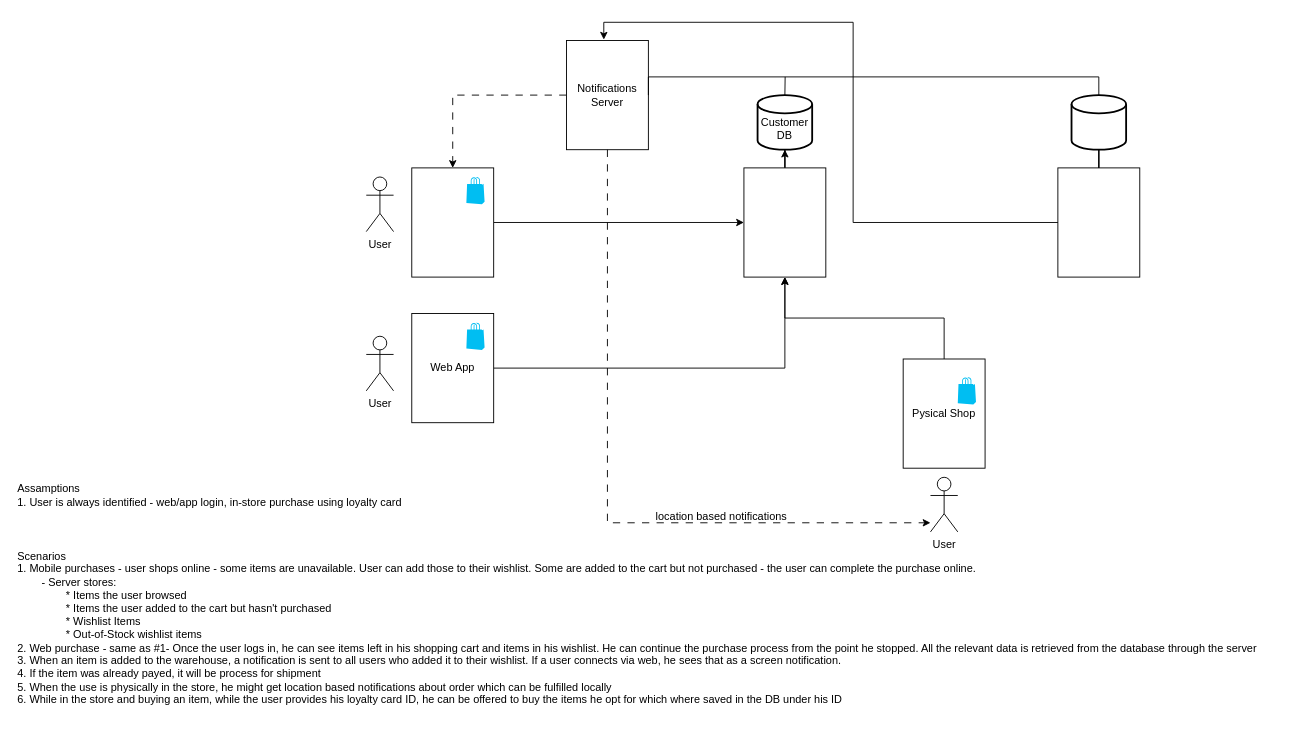
Image size: 1296x742. Some labels were removed from this diagram. Here are the shapes that lost their labels. From the top down, the box of each, then its label:
(1070, 94, 1127, 150): Items DB
(411, 167, 494, 277): Mobile App
(743, 167, 826, 277): Server
(1057, 167, 1140, 277): warehouse Server
